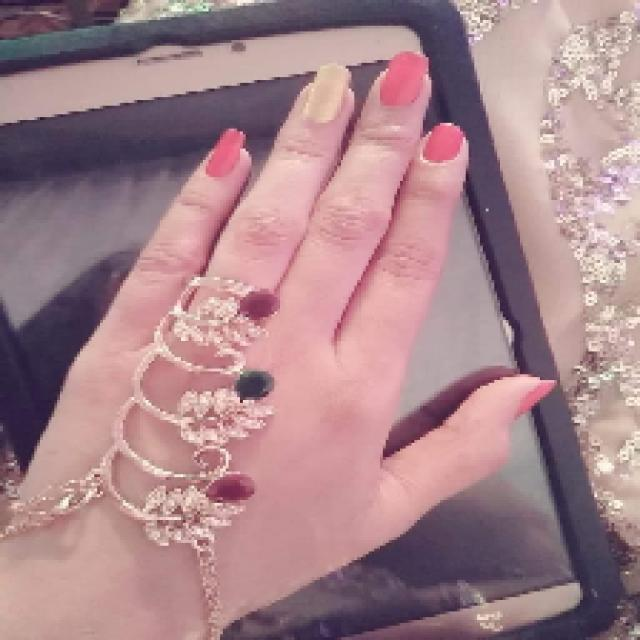Nail: (378, 50, 429, 108), (304, 64, 351, 122), (205, 129, 245, 177), (422, 122, 465, 161), (520, 381, 552, 413)
